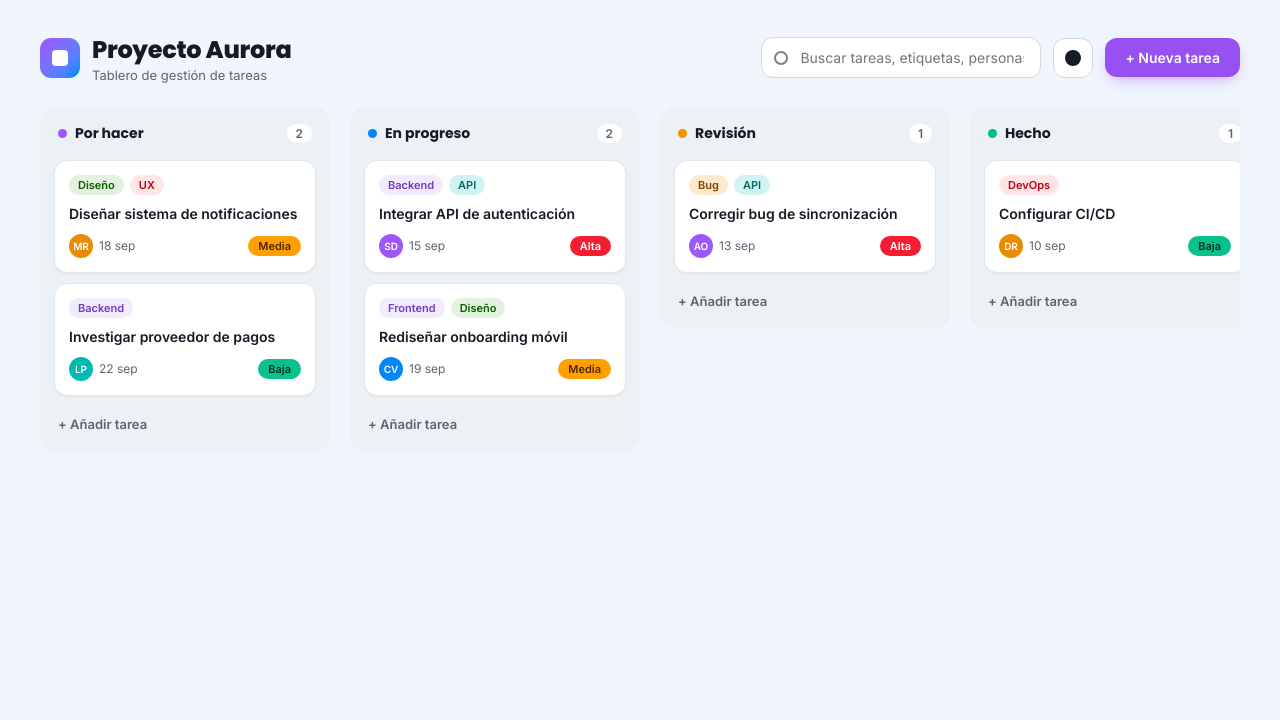
Test case: Task create/edit modal › creates a task with the entered fields in the selected column
The width and height of the screenshot is (1280, 720).
Step 1. Click the button "+ Añadir tarea" below "13 sep" → x=723, y=301, box [674,287,936,315]
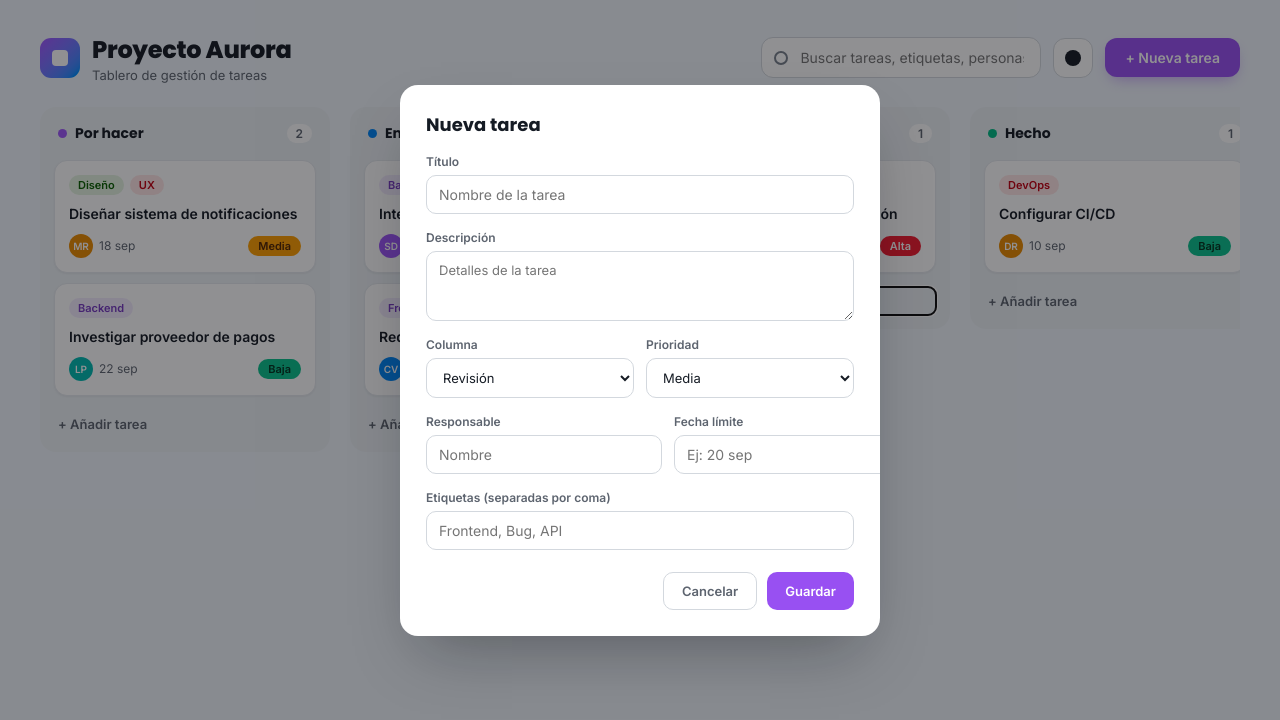
Step 2. Type "Nueva tarea de prueba" into the field with placeholder "Nombre de la tarea" → x=640, y=194, box [426,174,854,214]
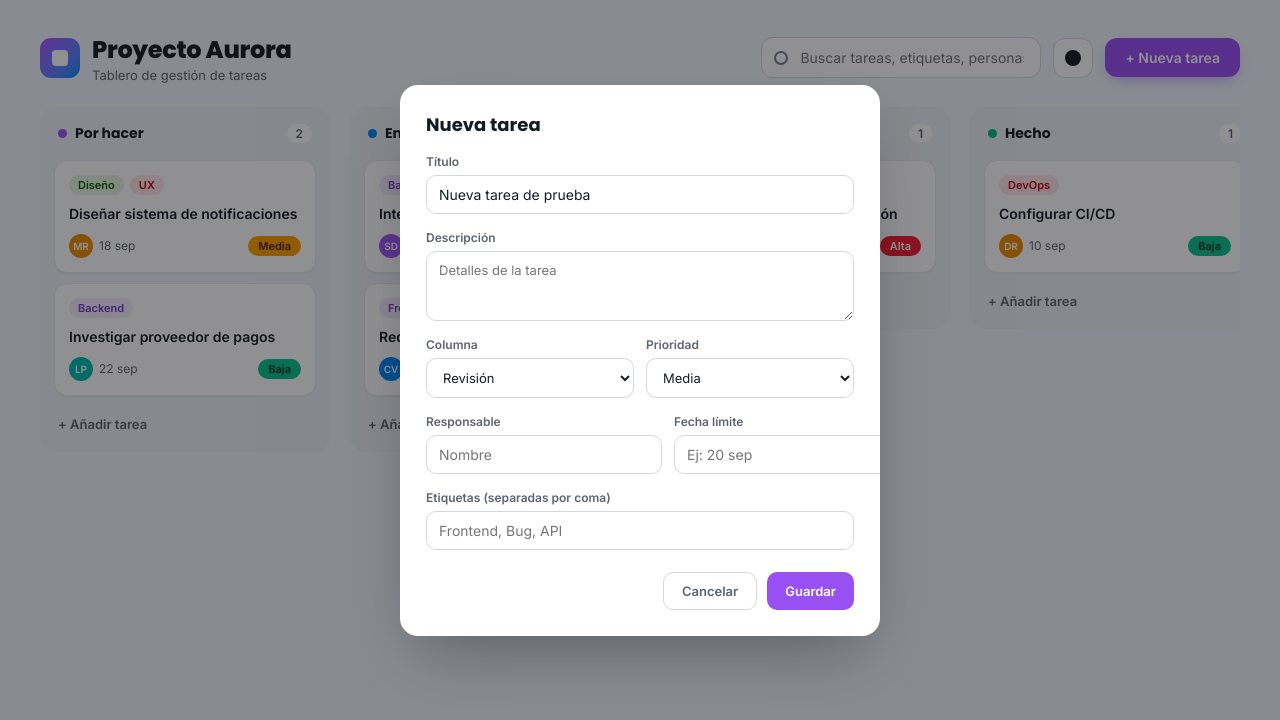
Step 3. Type "QA, Prioridad" into the field with placeholder "Frontend, Bug, API" → x=640, y=530, box [426,510,854,550]
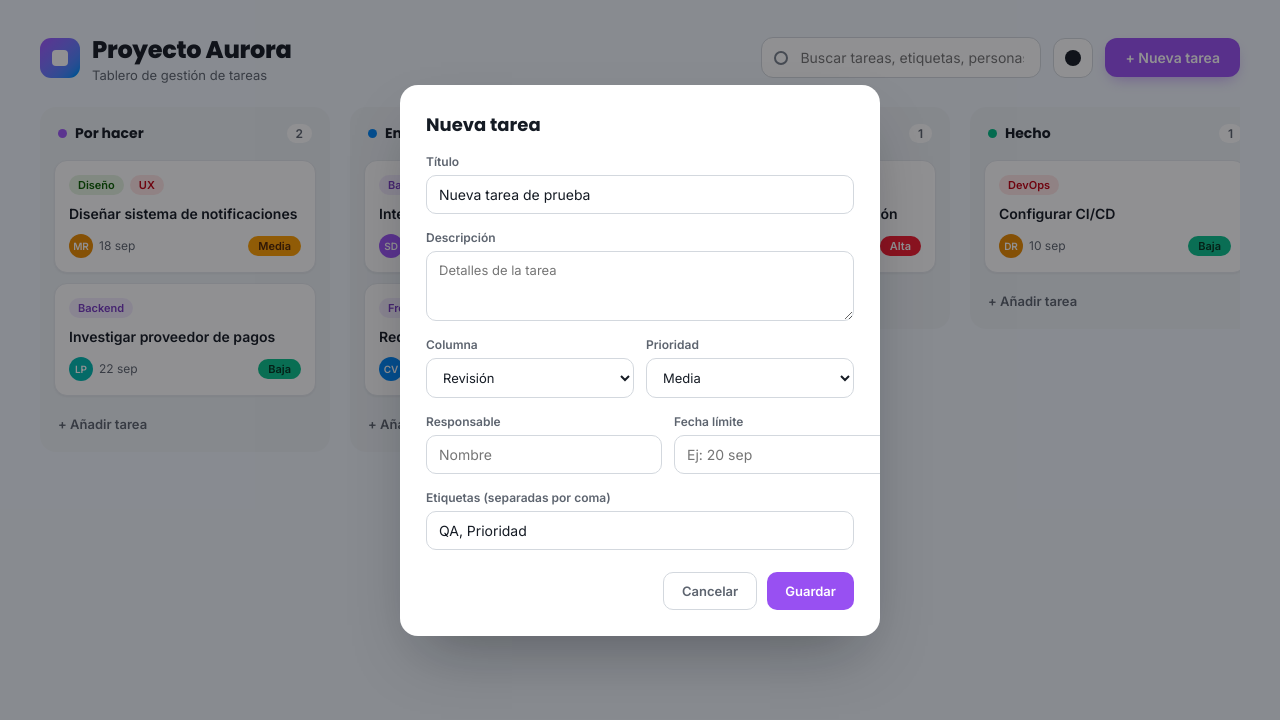
Step 4. Type "Lucía Fernández" into the field with placeholder "Nombre" → x=544, y=454, box [426,434,662,474]
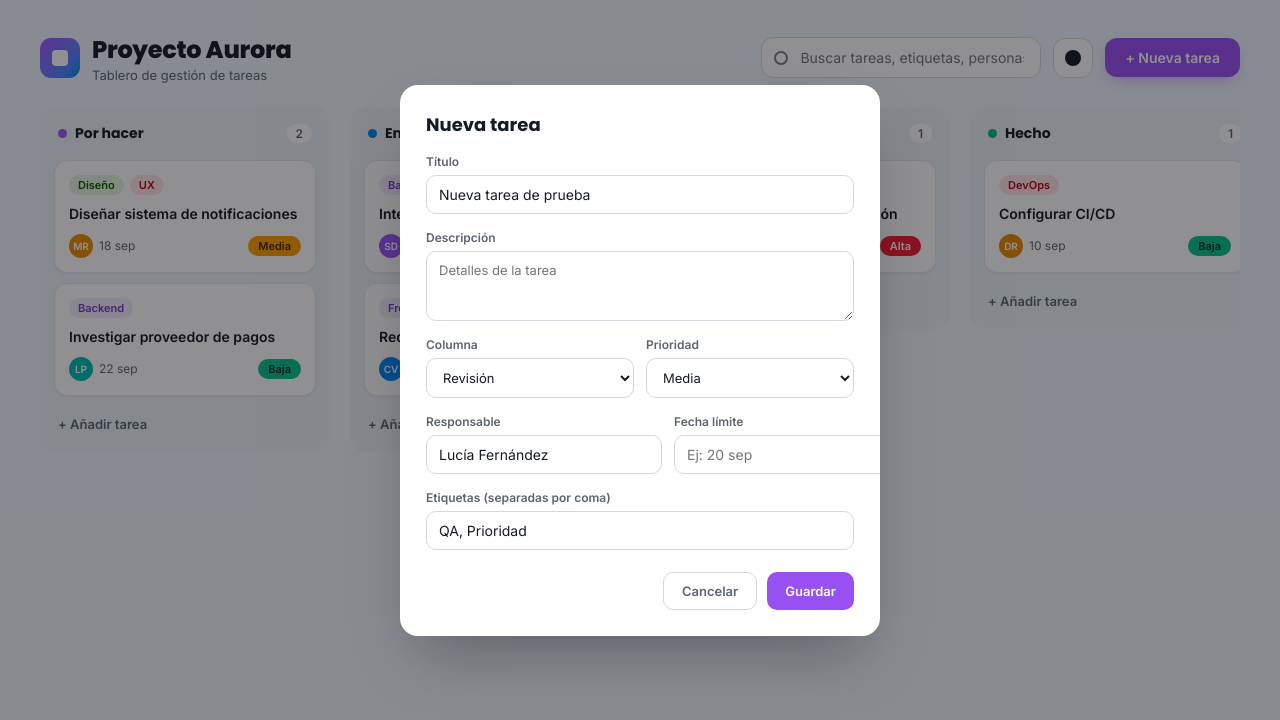
Step 5. Click the button "Guardar" → x=811, y=590, box [767,572,854,610]
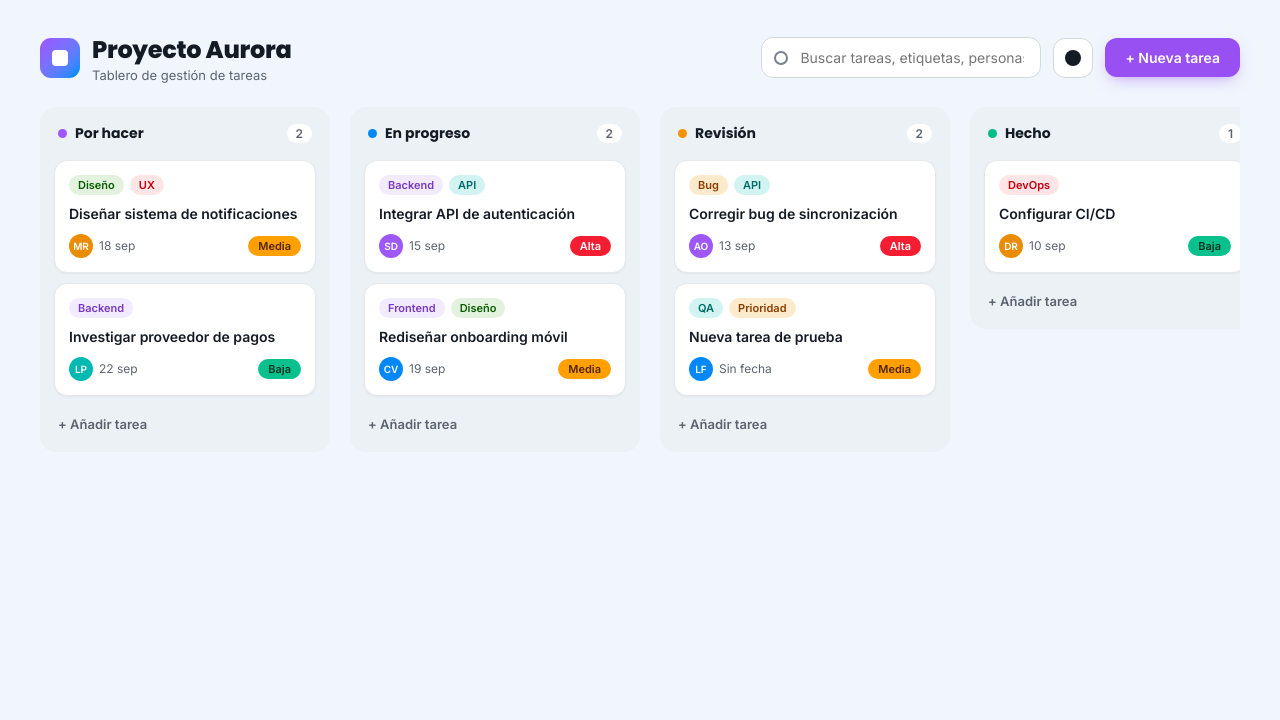
Check: the text "Prioridad" is shown, box [729,298,796,318]
Check: the text "Nueva tarea de prueba" is shown, box [689,328,843,345]
Check: the text "QA" is shown, box [689,298,723,318]
